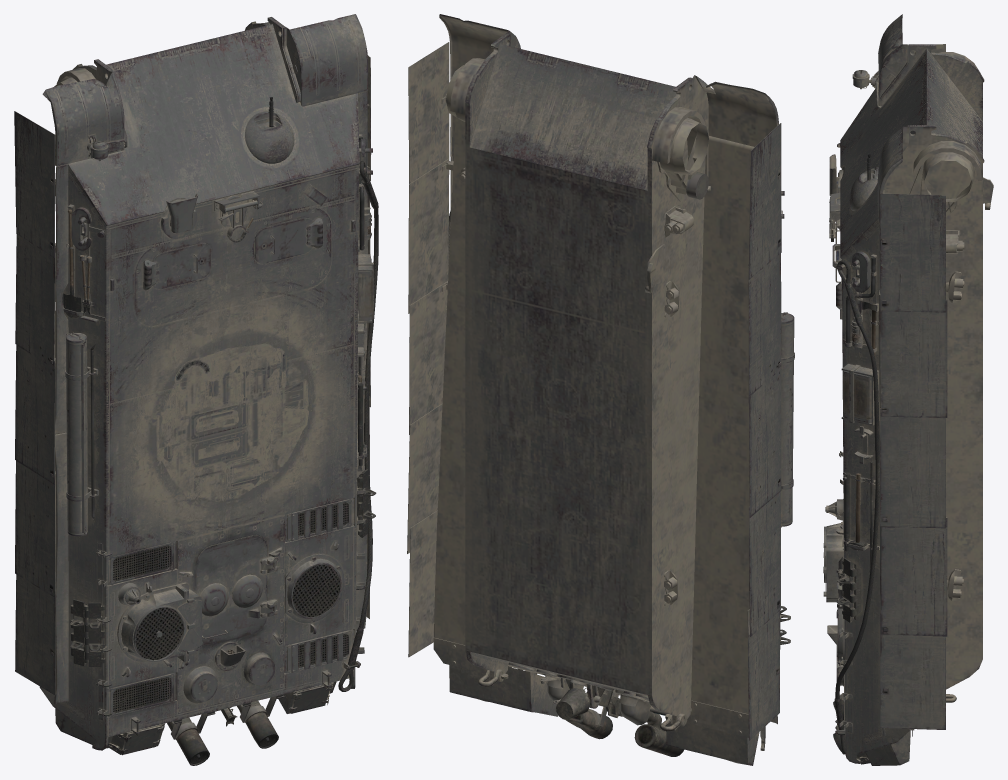
File: Hull.glb
The picture shows the model from 3 angles, left to right: view 1: azimuth 30°, elevation 25°; view 2: azimuth 150°, elevation 25°; view 3: azimuth 270°, elevation 25°; orthographic projection. The views are drawn at different scales.
Parts seen in each view (by area): view 1: set_0_group_0; view 2: set_0_group_0; view 3: set_0_group_0.
Boxes of the visible parts, bbox=[...] form: set_0_group_0: bbox=[14, 14, 378, 765]; set_0_group_0: bbox=[407, 14, 794, 765]; set_0_group_0: bbox=[823, 14, 993, 765].
Bounding box in the file's own units: 3.53 × 7.05 × 1.67.
Materials: 1 (1 with a texture image).
